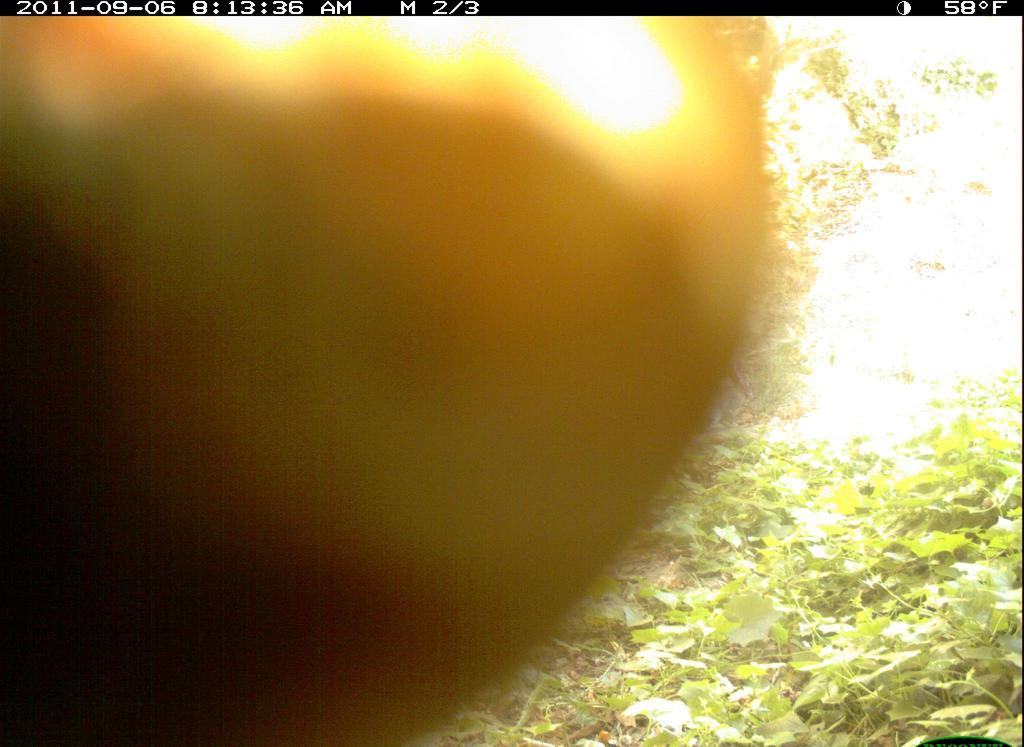rabbit: (691, 352, 762, 445)
